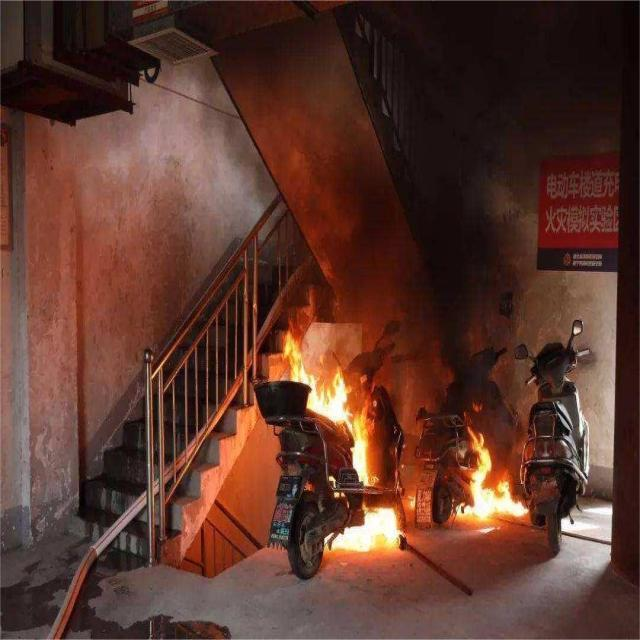Fire: (470, 446, 524, 516), (327, 504, 399, 554), (308, 368, 347, 424), (284, 334, 306, 381), (351, 427, 368, 484)
